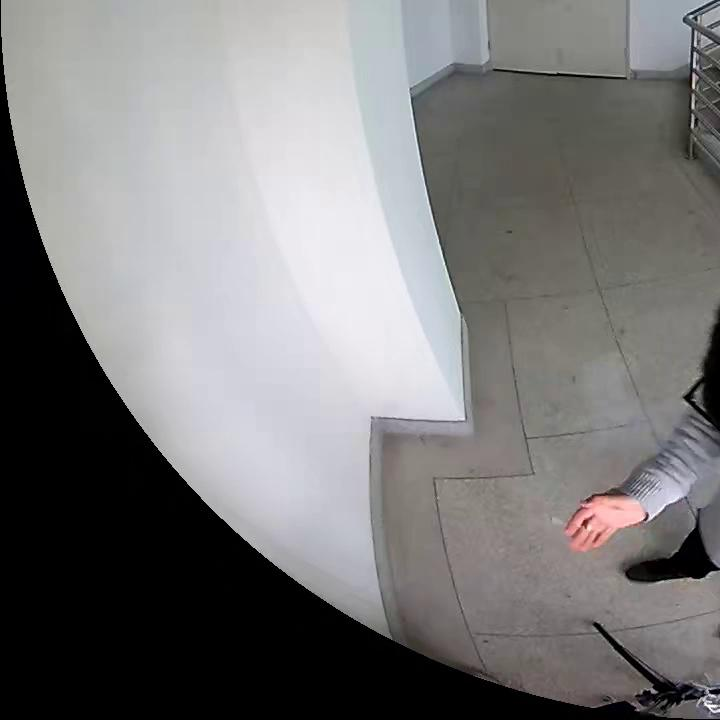handsmoke: (548, 489, 645, 555)
